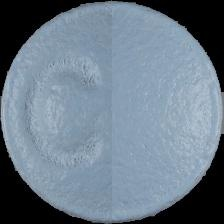54868-4624: (0, 0, 224, 224)
